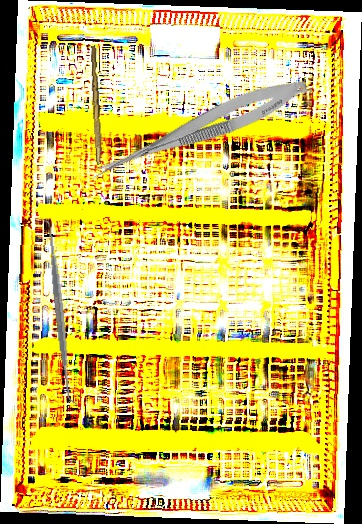Micro Scissor: (85, 68, 312, 193)
Scalpel Handle: (88, 45, 105, 165)
Spatula Surgical: (39, 215, 81, 410)
